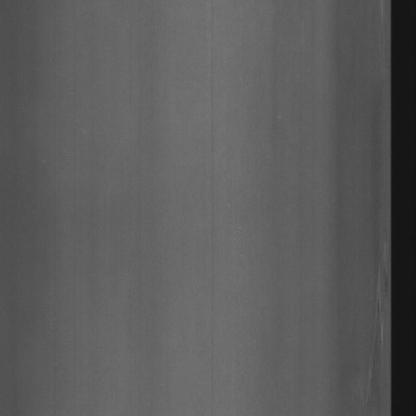silk_spot: (361, 244, 390, 368)
